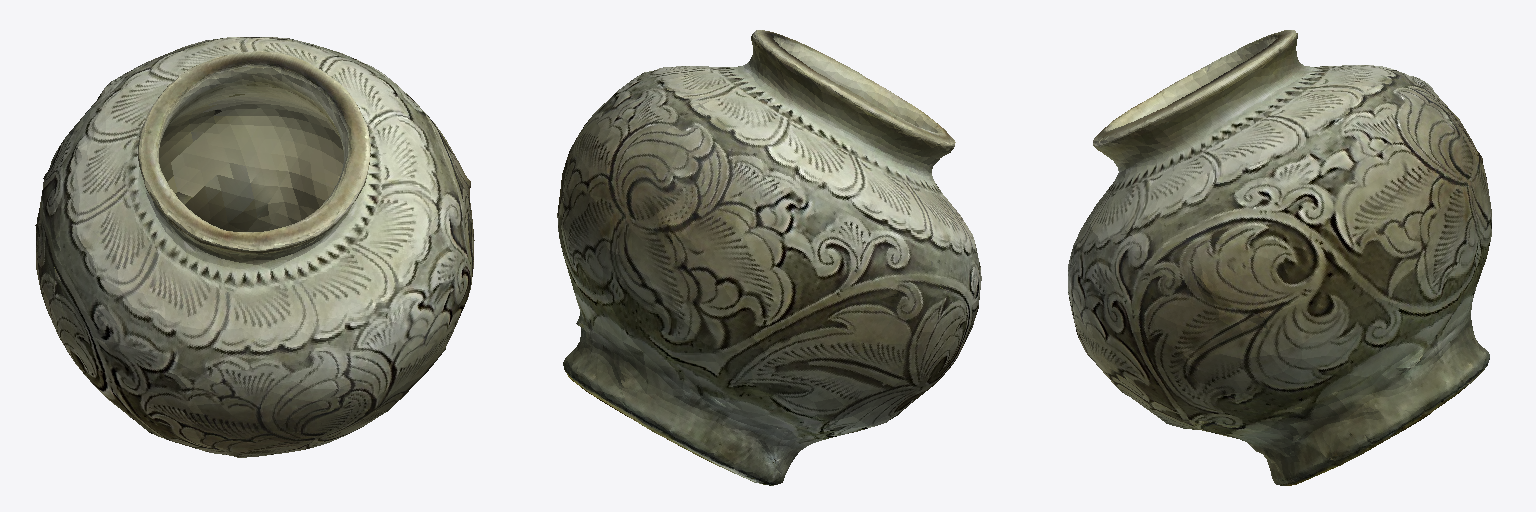
The picture shows the model from 3 angles: view 1: azimuth 30°, elevation 25°; view 2: azimuth 150°, elevation 25°; view 3: azimuth 270°, elevation 25°; orthographic projection.
Visible parts, largest first — view 1: group_0; view 2: group_0; view 3: group_0.
Part boxes in pixels (x1,y1,x2,y2): group_0: (35, 37, 474, 457); group_0: (557, 30, 981, 485); group_0: (1068, 30, 1491, 485).
Bounding box in the file's own units: 152 × 159 × 148.
1 materials, 1 textured.